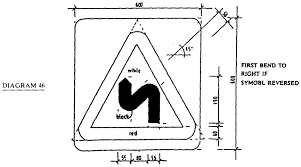Double_bend_left: (75, 21, 200, 141)
